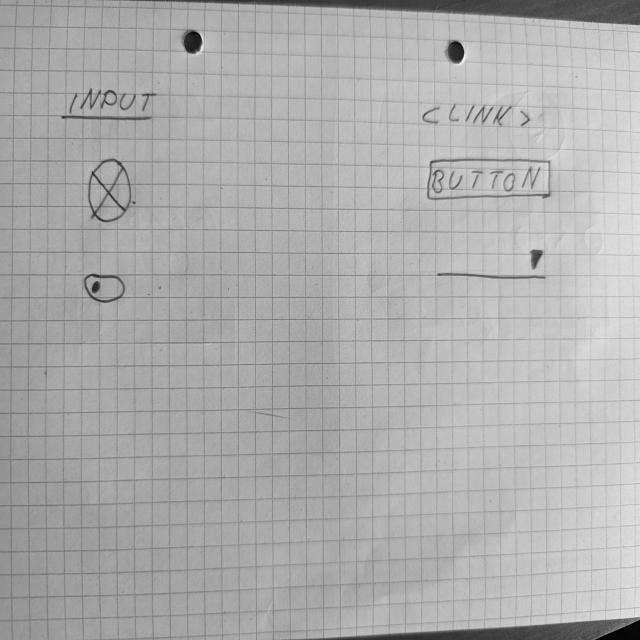button: (426, 157, 554, 203)
image: (88, 157, 134, 224)
input: (61, 86, 160, 124)
link: (420, 100, 534, 130)
select: (436, 245, 551, 284)
toggle: (83, 271, 128, 306)
